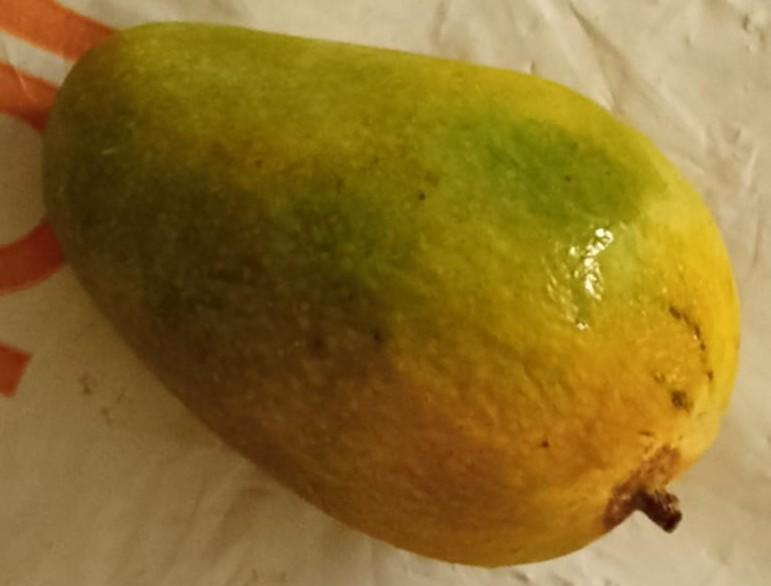mango: (39, 17, 743, 567)
